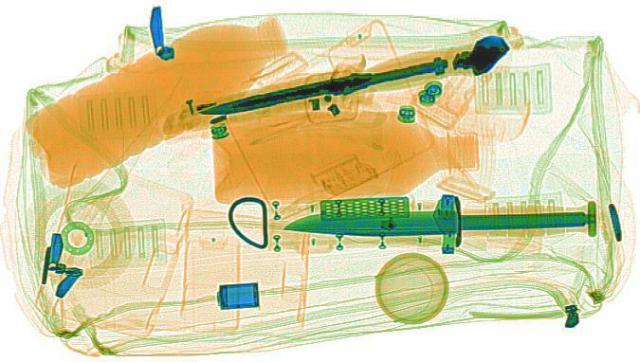Knife: (282, 190, 598, 253), (190, 53, 456, 118)
